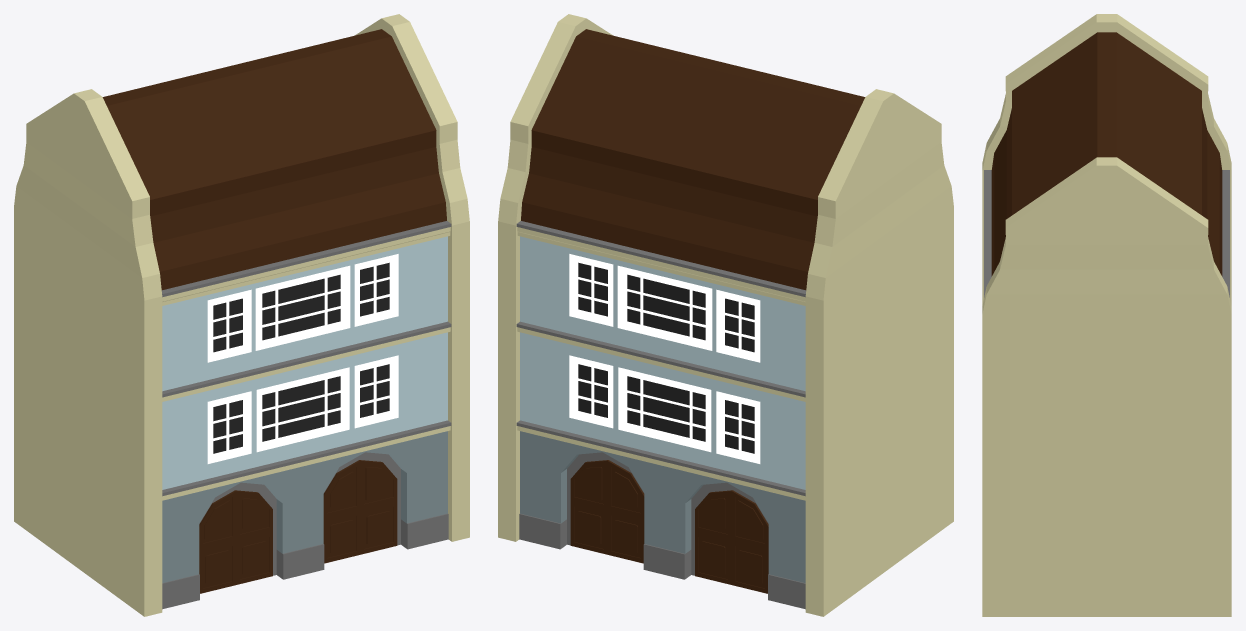
The model's file is Building2_Small.glb.
The picture shows the model from 3 angles, left to right: view 1: azimuth 30°, elevation 25°; view 2: azimuth 150°, elevation 25°; view 3: azimuth 270°, elevation 25°; orthographic projection. The views are drawn at different scales.
Parts seen in each view (by area): view 1: Building2_Small; view 2: Building2_Small; view 3: Building2_Small.
Part boxes in pixels (left/top/right/bottom): Building2_Small: left=14, top=14, right=469, bottom=616; Building2_Small: left=498, top=14, right=953, bottom=616; Building2_Small: left=982, top=14, right=1231, bottom=616.
Bounding box in the file's own units: 358 × 497 × 249.
